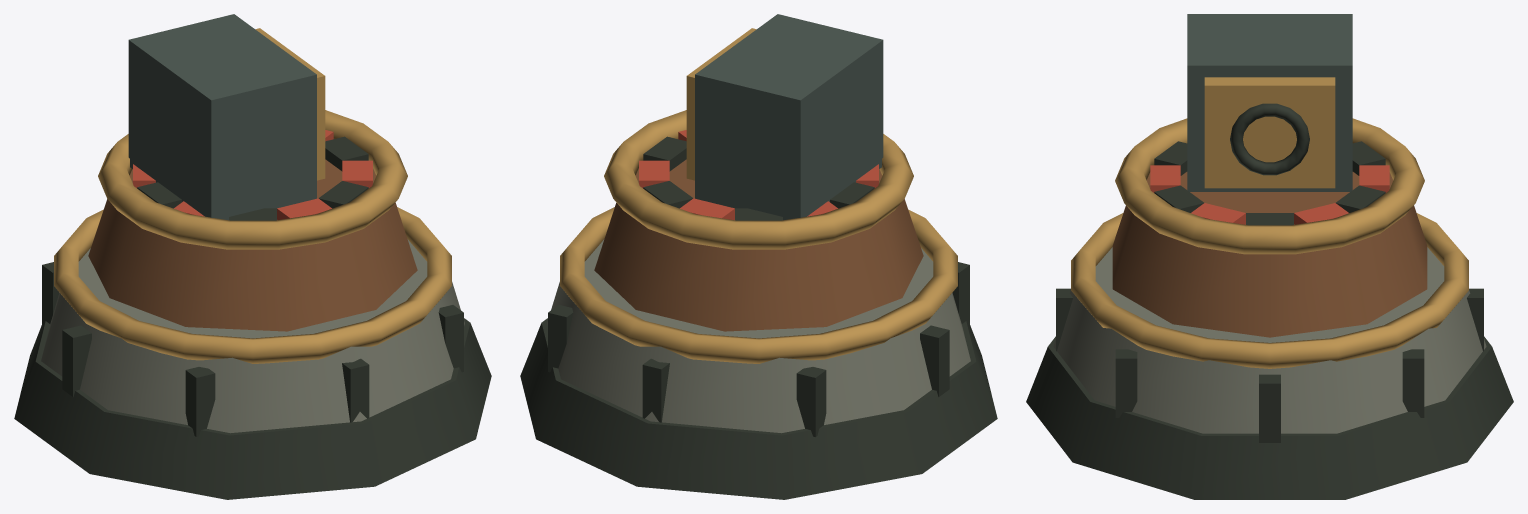
File: tower_gamble_gambleLoaded.glb
3 renders of one model, left to right at view 1: azimuth 30°, elevation 25°; view 2: azimuth 150°, elevation 25°; view 3: azimuth 270°, elevation 25°, orthographic.
Visible parts, largest first — view 1: foot_0, vault_25, stone_1, table_11, rim_2, roulette_rim_12, mortar_6, mortar_7, mortar_5, vault_door_26, mortar_4, pocket_16 (+5 smaller); view 2: foot_0, vault_25, stone_1, table_11, rim_2, roulette_rim_12, mortar_8, mortar_7, mortar_9, vault_door_26, mortar_10, pocket_16 (+5 smaller); view 3: foot_0, stone_1, table_11, vault_25, rim_2, roulette_rim_12, vault_door_26, safe_lock_27, mortar_3, mortar_4, mortar_10, pocket_14 (+10 smaller).
Part boxes in pixels (x1=…): foot_0: x1=14, y1=318, x2=491, y2=499; vault_25: x1=128, y1=14, x2=316, y2=220; stone_1: x1=41, y1=239, x2=464, y2=433; table_11: x1=88, y1=159, x2=417, y2=331; rim_2: x1=54, y1=207, x2=451, y2=363; roulette_rim_12: x1=98, y1=110, x2=407, y2=249; mortar_6: x1=185, y1=367, x2=215, y2=436; mortar_7: x1=62, y1=325, x2=91, y2=396; mortar_5: x1=342, y1=358, x2=369, y2=422; vault_door_26: x1=255, y1=28, x2=325, y2=180; mortar_4: x1=438, y1=305, x2=463, y2=372; pocket_16: x1=325, y1=136, x2=368, y2=171; foot_0: x1=520, y1=318, x2=997, y2=499; vault_25: x1=695, y1=14, x2=883, y2=220; stone_1: x1=547, y1=239, x2=970, y2=433; table_11: x1=594, y1=159, x2=923, y2=331; rim_2: x1=560, y1=207, x2=957, y2=363; roulette_rim_12: x1=604, y1=110, x2=913, y2=249; mortar_8: x1=796, y1=367, x2=826, y2=436; mortar_7: x1=920, y1=325, x2=949, y2=396; mortar_9: x1=642, y1=358, x2=669, y2=422; vault_door_26: x1=686, y1=28, x2=756, y2=180; mortar_10: x1=548, y1=305, x2=573, y2=372; pocket_16: x1=643, y1=136, x2=686, y2=171; foot_0: x1=1026, y1=336, x2=1513, y2=499; stone_1: x1=1053, y1=247, x2=1486, y2=433; table_11: x1=1112, y1=172, x2=1427, y2=337; vault_25: x1=1187, y1=14, x2=1352, y2=191; rim_2: x1=1071, y1=213, x2=1468, y2=368; roulette_rim_12: x1=1115, y1=118, x2=1424, y2=254; vault_door_26: x1=1204, y1=77, x2=1335, y2=188; safe_lock_27: x1=1230, y1=103, x2=1309, y2=175; mortar_3: x1=1259, y1=374, x2=1280, y2=442; mortar_4: x1=1115, y1=349, x2=1137, y2=417; mortar_10: x1=1402, y1=349, x2=1424, y2=417; pocket_14: x1=1336, y1=185, x2=1385, y2=212.
Bounding box in the file's own units: 0.5326 × 0.44 × 0.56.
